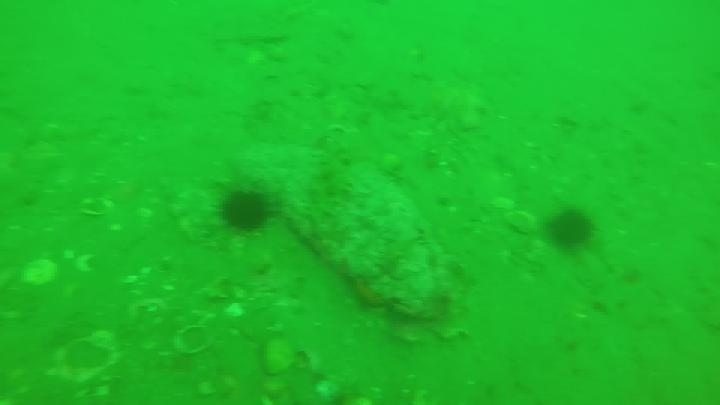echinus: (217, 188, 273, 234), (545, 207, 596, 252)
holothurian: (303, 130, 355, 228)
scallop: (20, 257, 60, 289)
starfish: (418, 80, 489, 132)
